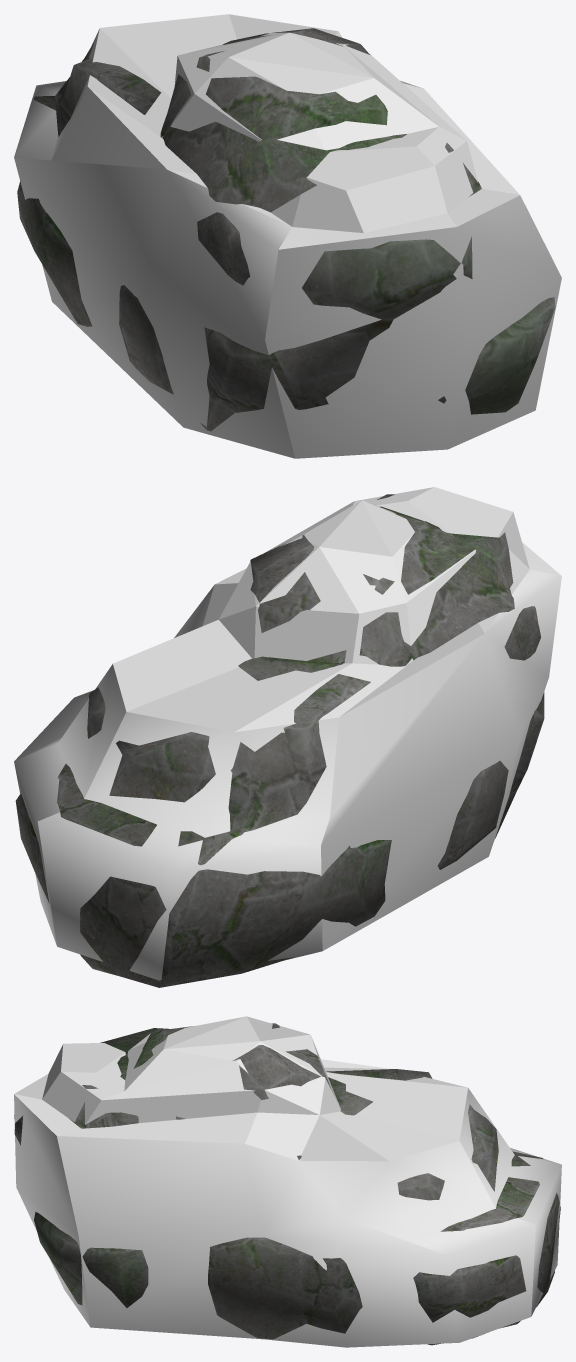
The model's file is Scene_Rock_HeBianShi_1b.FBX.
The picture shows the model from 3 angles, top to bottom: view 1: azimuth 30°, elevation 25°; view 2: azimuth 150°, elevation 25°; view 3: azimuth 270°, elevation 25°; orthographic projection. The views are drawn at different scales.
Parts seen in each view (by area): view 1: Scene_Rock_HeBianShi_1b_Xzm, Scene_Rock_HeBianShi_1b; view 2: Scene_Rock_HeBianShi_1b_Xzm, Scene_Rock_HeBianShi_1b; view 3: Scene_Rock_HeBianShi_1b_Xzm, Scene_Rock_HeBianShi_1b.
Boxes of the visible parts, bbox=[...] form: Scene_Rock_HeBianShi_1b_Xzm: bbox=[14, 14, 561, 458]; Scene_Rock_HeBianShi_1b: bbox=[17, 28, 555, 431]; Scene_Rock_HeBianShi_1b_Xzm: bbox=[14, 487, 561, 980]; Scene_Rock_HeBianShi_1b: bbox=[15, 494, 544, 987]; Scene_Rock_HeBianShi_1b_Xzm: bbox=[14, 1016, 561, 1347]; Scene_Rock_HeBianShi_1b: bbox=[14, 1023, 560, 1345].
Bounding box in the file's own units: 772 × 726 × 1270.
